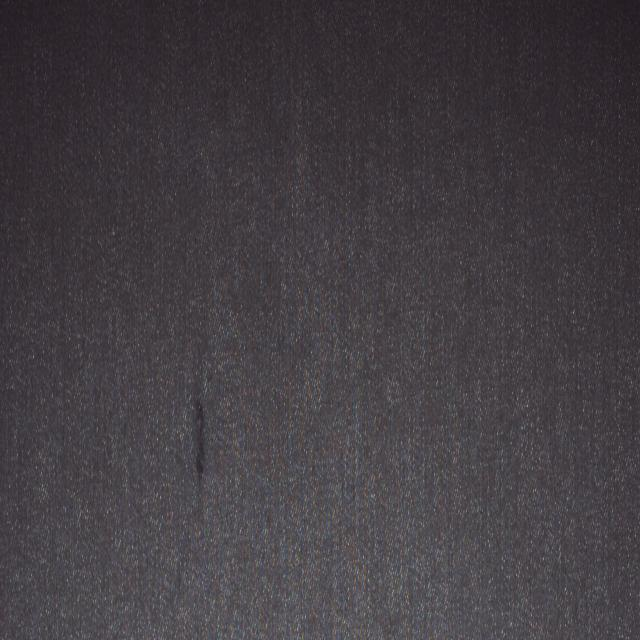Stain: (192, 399, 206, 488)
